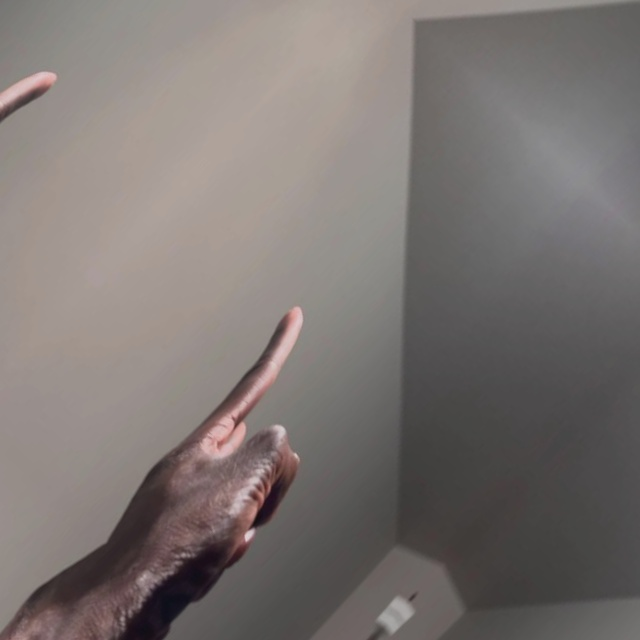Scissors: (0, 0, 63, 300)
